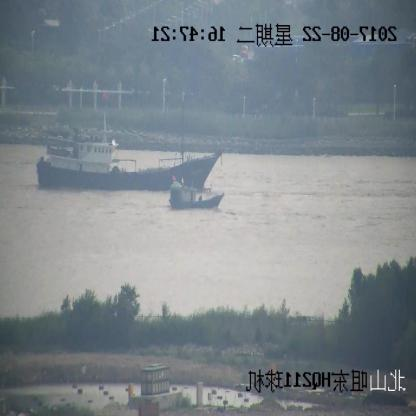Fishing Boat: (37, 89, 222, 191), (169, 174, 224, 211)
